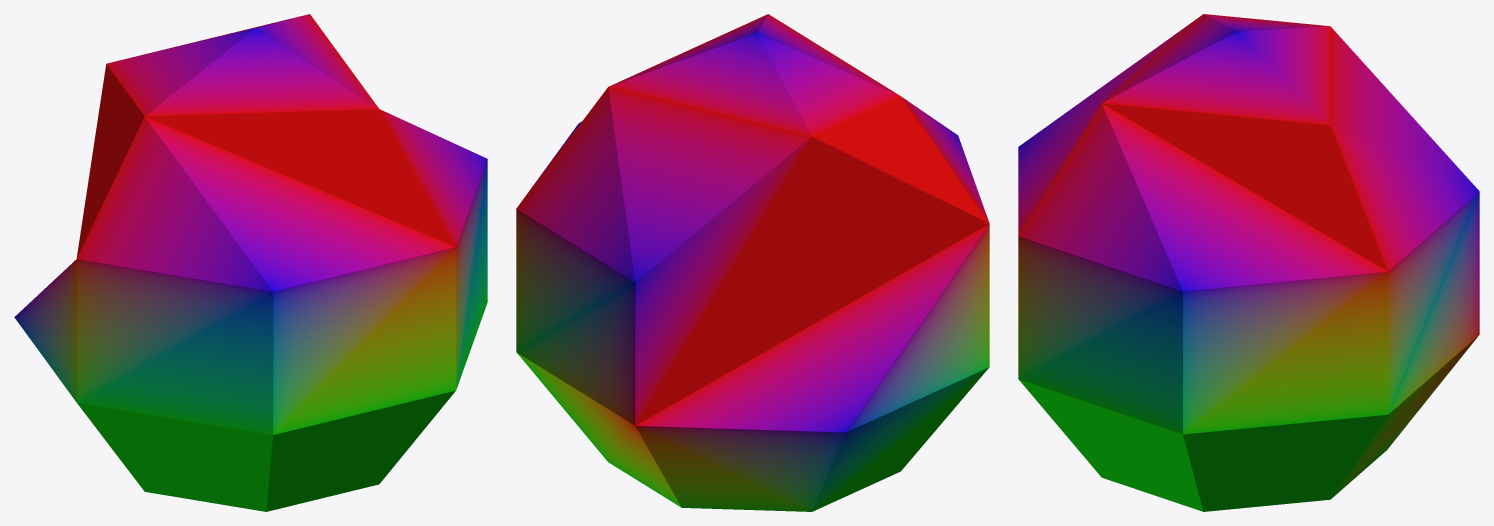
File: after_retriangulation_type_colored_3.obj
3 views of the same model, side by side, from view 1: azimuth 30°, elevation 25°; view 2: azimuth 150°, elevation 25°; view 3: azimuth 270°, elevation 25° (orthographic).
Size of the model in its own units: 1.85 by 2 by 1.81.
